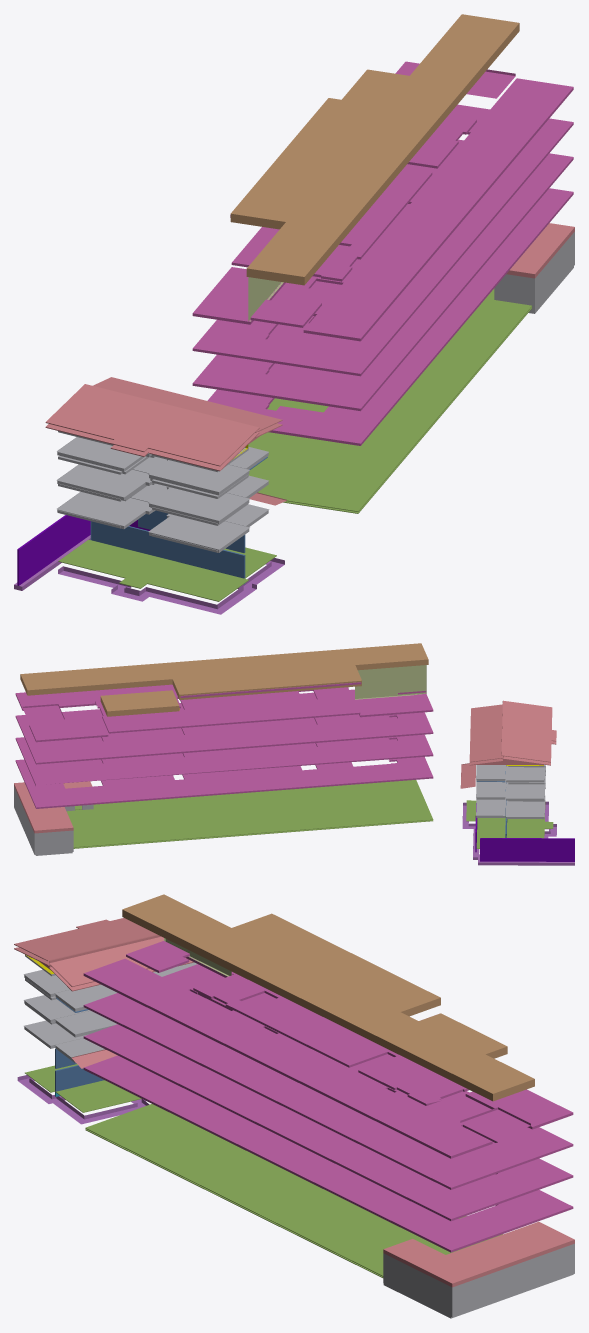
3 renders of one model, top to bottom at view 1: azimuth 30°, elevation 25°; view 2: azimuth 150°, elevation 25°; view 3: azimuth 270°, elevation 25°, orthographic. The views are drawn at different scales.
Size of the model in its own units: 86.82 by 30.6 by 65.31.
